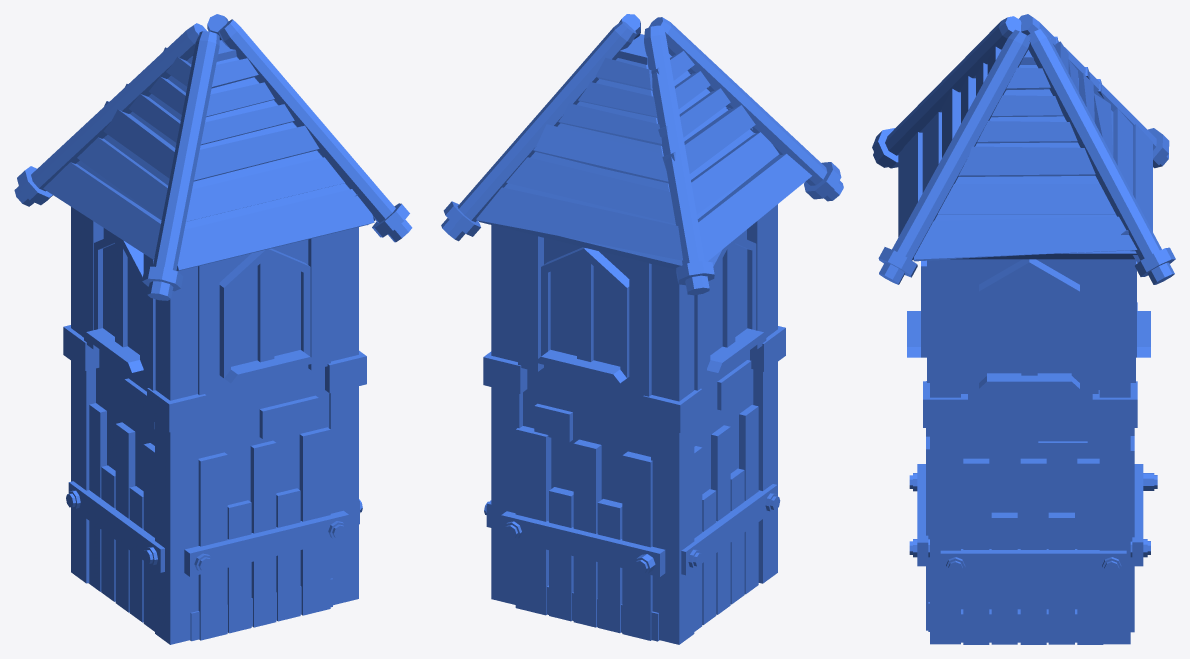
Rendered from Tower_Stone_Variant5.fbx.
3 renders of one model, left to right at view 1: azimuth 30°, elevation 25°; view 2: azimuth 150°, elevation 25°; view 3: azimuth 270°, elevation 25°, orthographic.
Visible parts, largest first — view 1: Tower_Stone_Variant5; view 2: Tower_Stone_Variant5; view 3: Tower_Stone_Variant5.
Boxes of the visible parts, box(x1,y1,x2,y2) form: Tower_Stone_Variant5: box(14, 14, 412, 644); Tower_Stone_Variant5: box(441, 14, 843, 644); Tower_Stone_Variant5: box(872, 14, 1175, 644).
Bounding box in the file's own units: 311 × 634 × 304.
